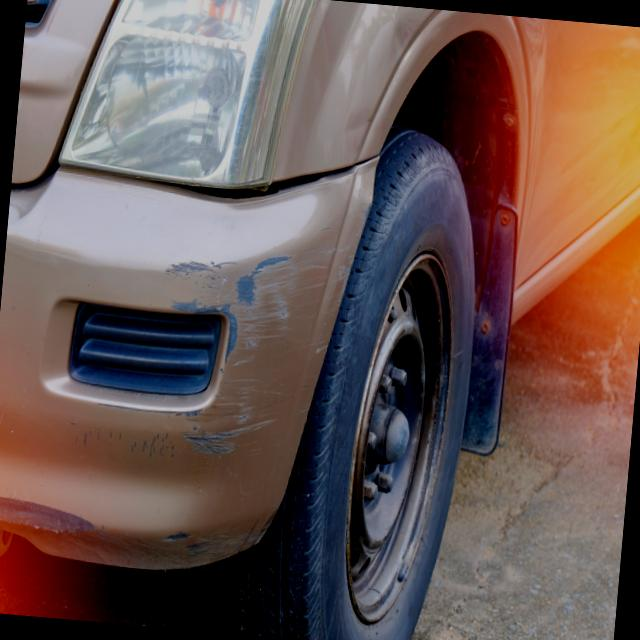Rayure: (59, 364, 304, 475), (161, 237, 352, 341), (67, 505, 269, 579), (225, 315, 333, 375)
